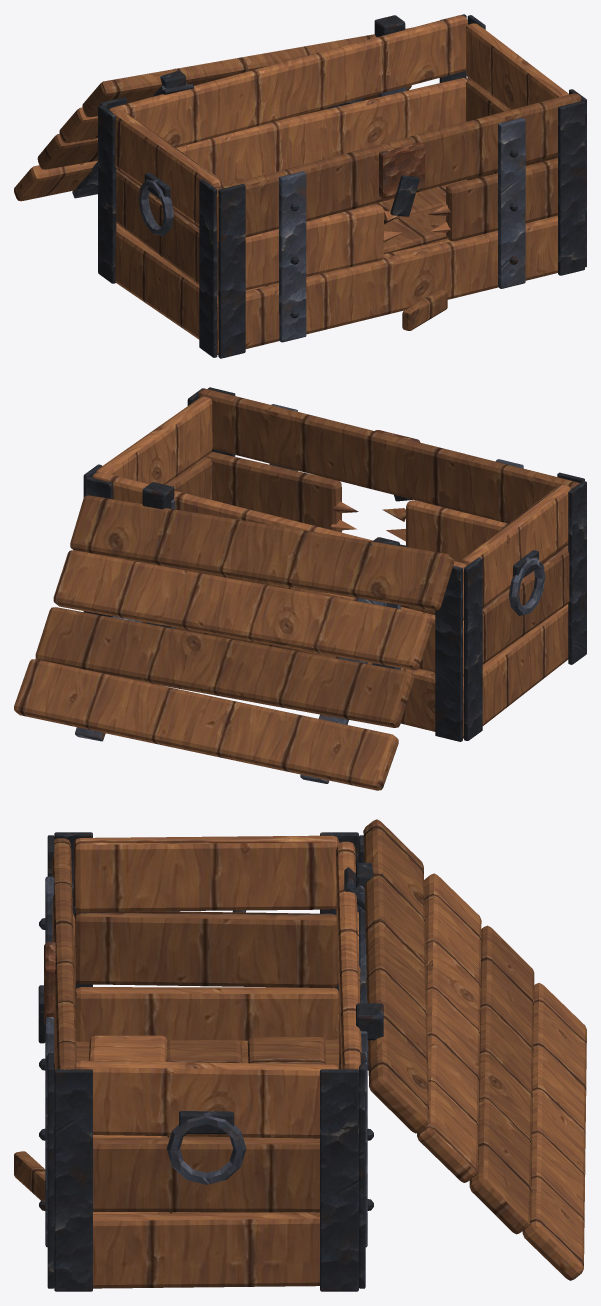
The model's file is storage_trunk.glb.
3 renders of one model, top to bottom at view 1: azimuth 30°, elevation 25°; view 2: azimuth 150°, elevation 25°; view 3: azimuth 270°, elevation 25°, orthographic. The views are drawn at different scales.
Visible parts, largest first — view 1: model; view 2: model; view 3: model.
Boxes of the visible parts, left/top/right/bottom form: model: left=14, top=14, right=586, bottom=358; model: left=14, top=387, right=586, bottom=790; model: left=14, top=819, right=586, bottom=1291.
Size of the model in its own units: 1.04 by 0.5076 by 1.03.
Materials: 6 (6 with a texture image).
